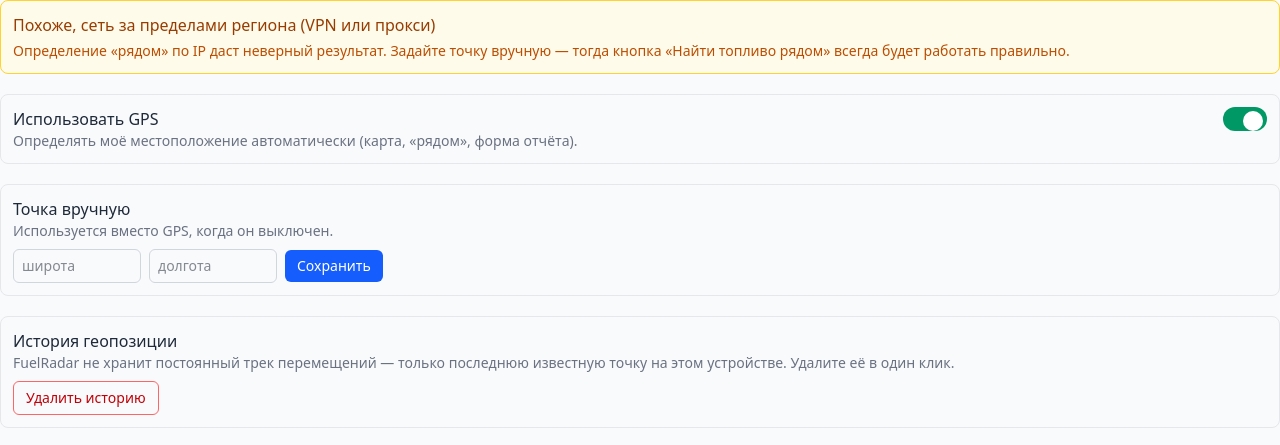
Test case: PrivacySettings (R24) › VPN-предупреждение исчезает, когда ручная точка задана
The image size is (1280, 445).
Check: the message with test id "privacy-vpn-notice" is shown, box [0, 0, 1279, 74]
Type "45.05" into the number field with placeholder "широта" at {"x": 77, "y": 266}, box [13, 249, 141, 283]
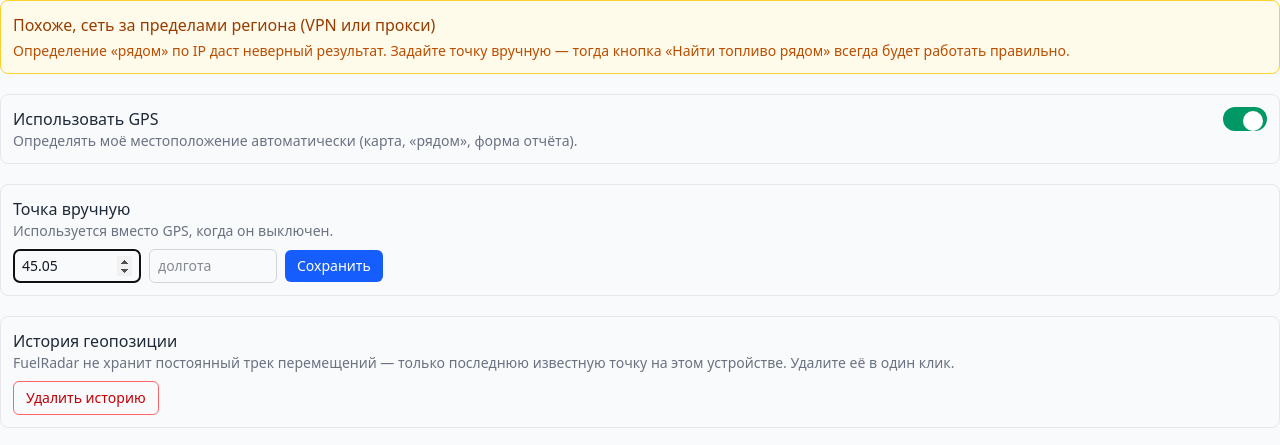
Type "38.97" into the number field with placeholder "долгота" at {"x": 213, "y": 266}, box [149, 249, 277, 283]
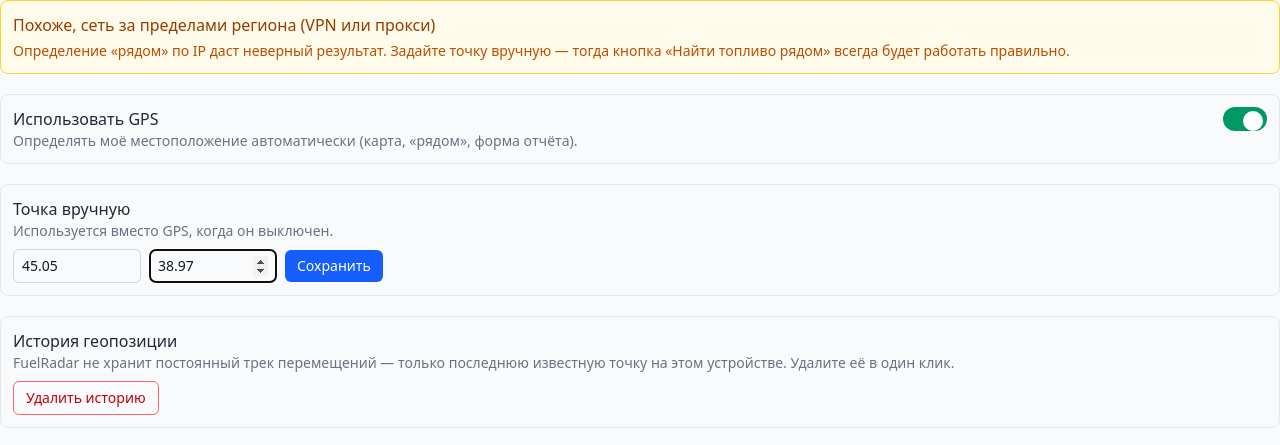
Click the button "Сохранить" at {"x": 334, "y": 266}, box [285, 250, 383, 282]
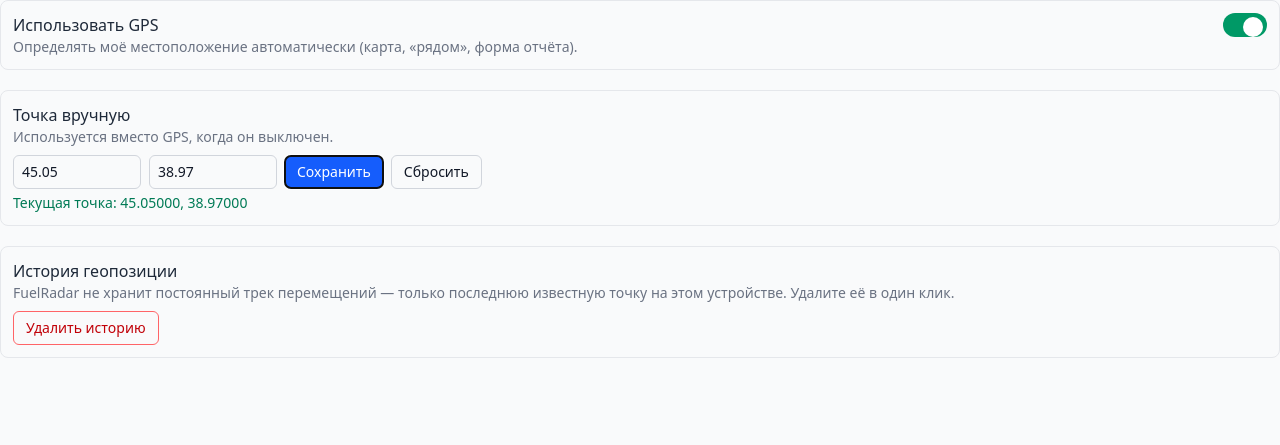
Check: the message with test id "privacy-vpn-notice" is gone
